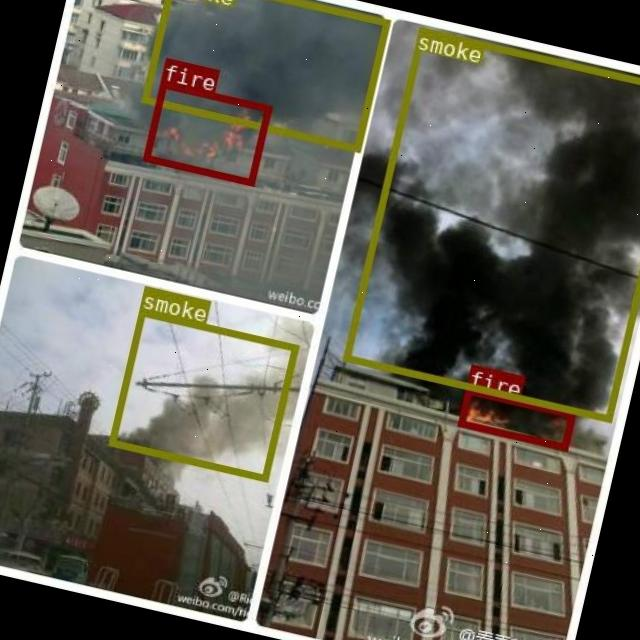fire: (142, 79, 270, 184), (456, 386, 574, 448)
smoke: (341, 25, 640, 419), (140, 0, 389, 151), (107, 307, 297, 480)
